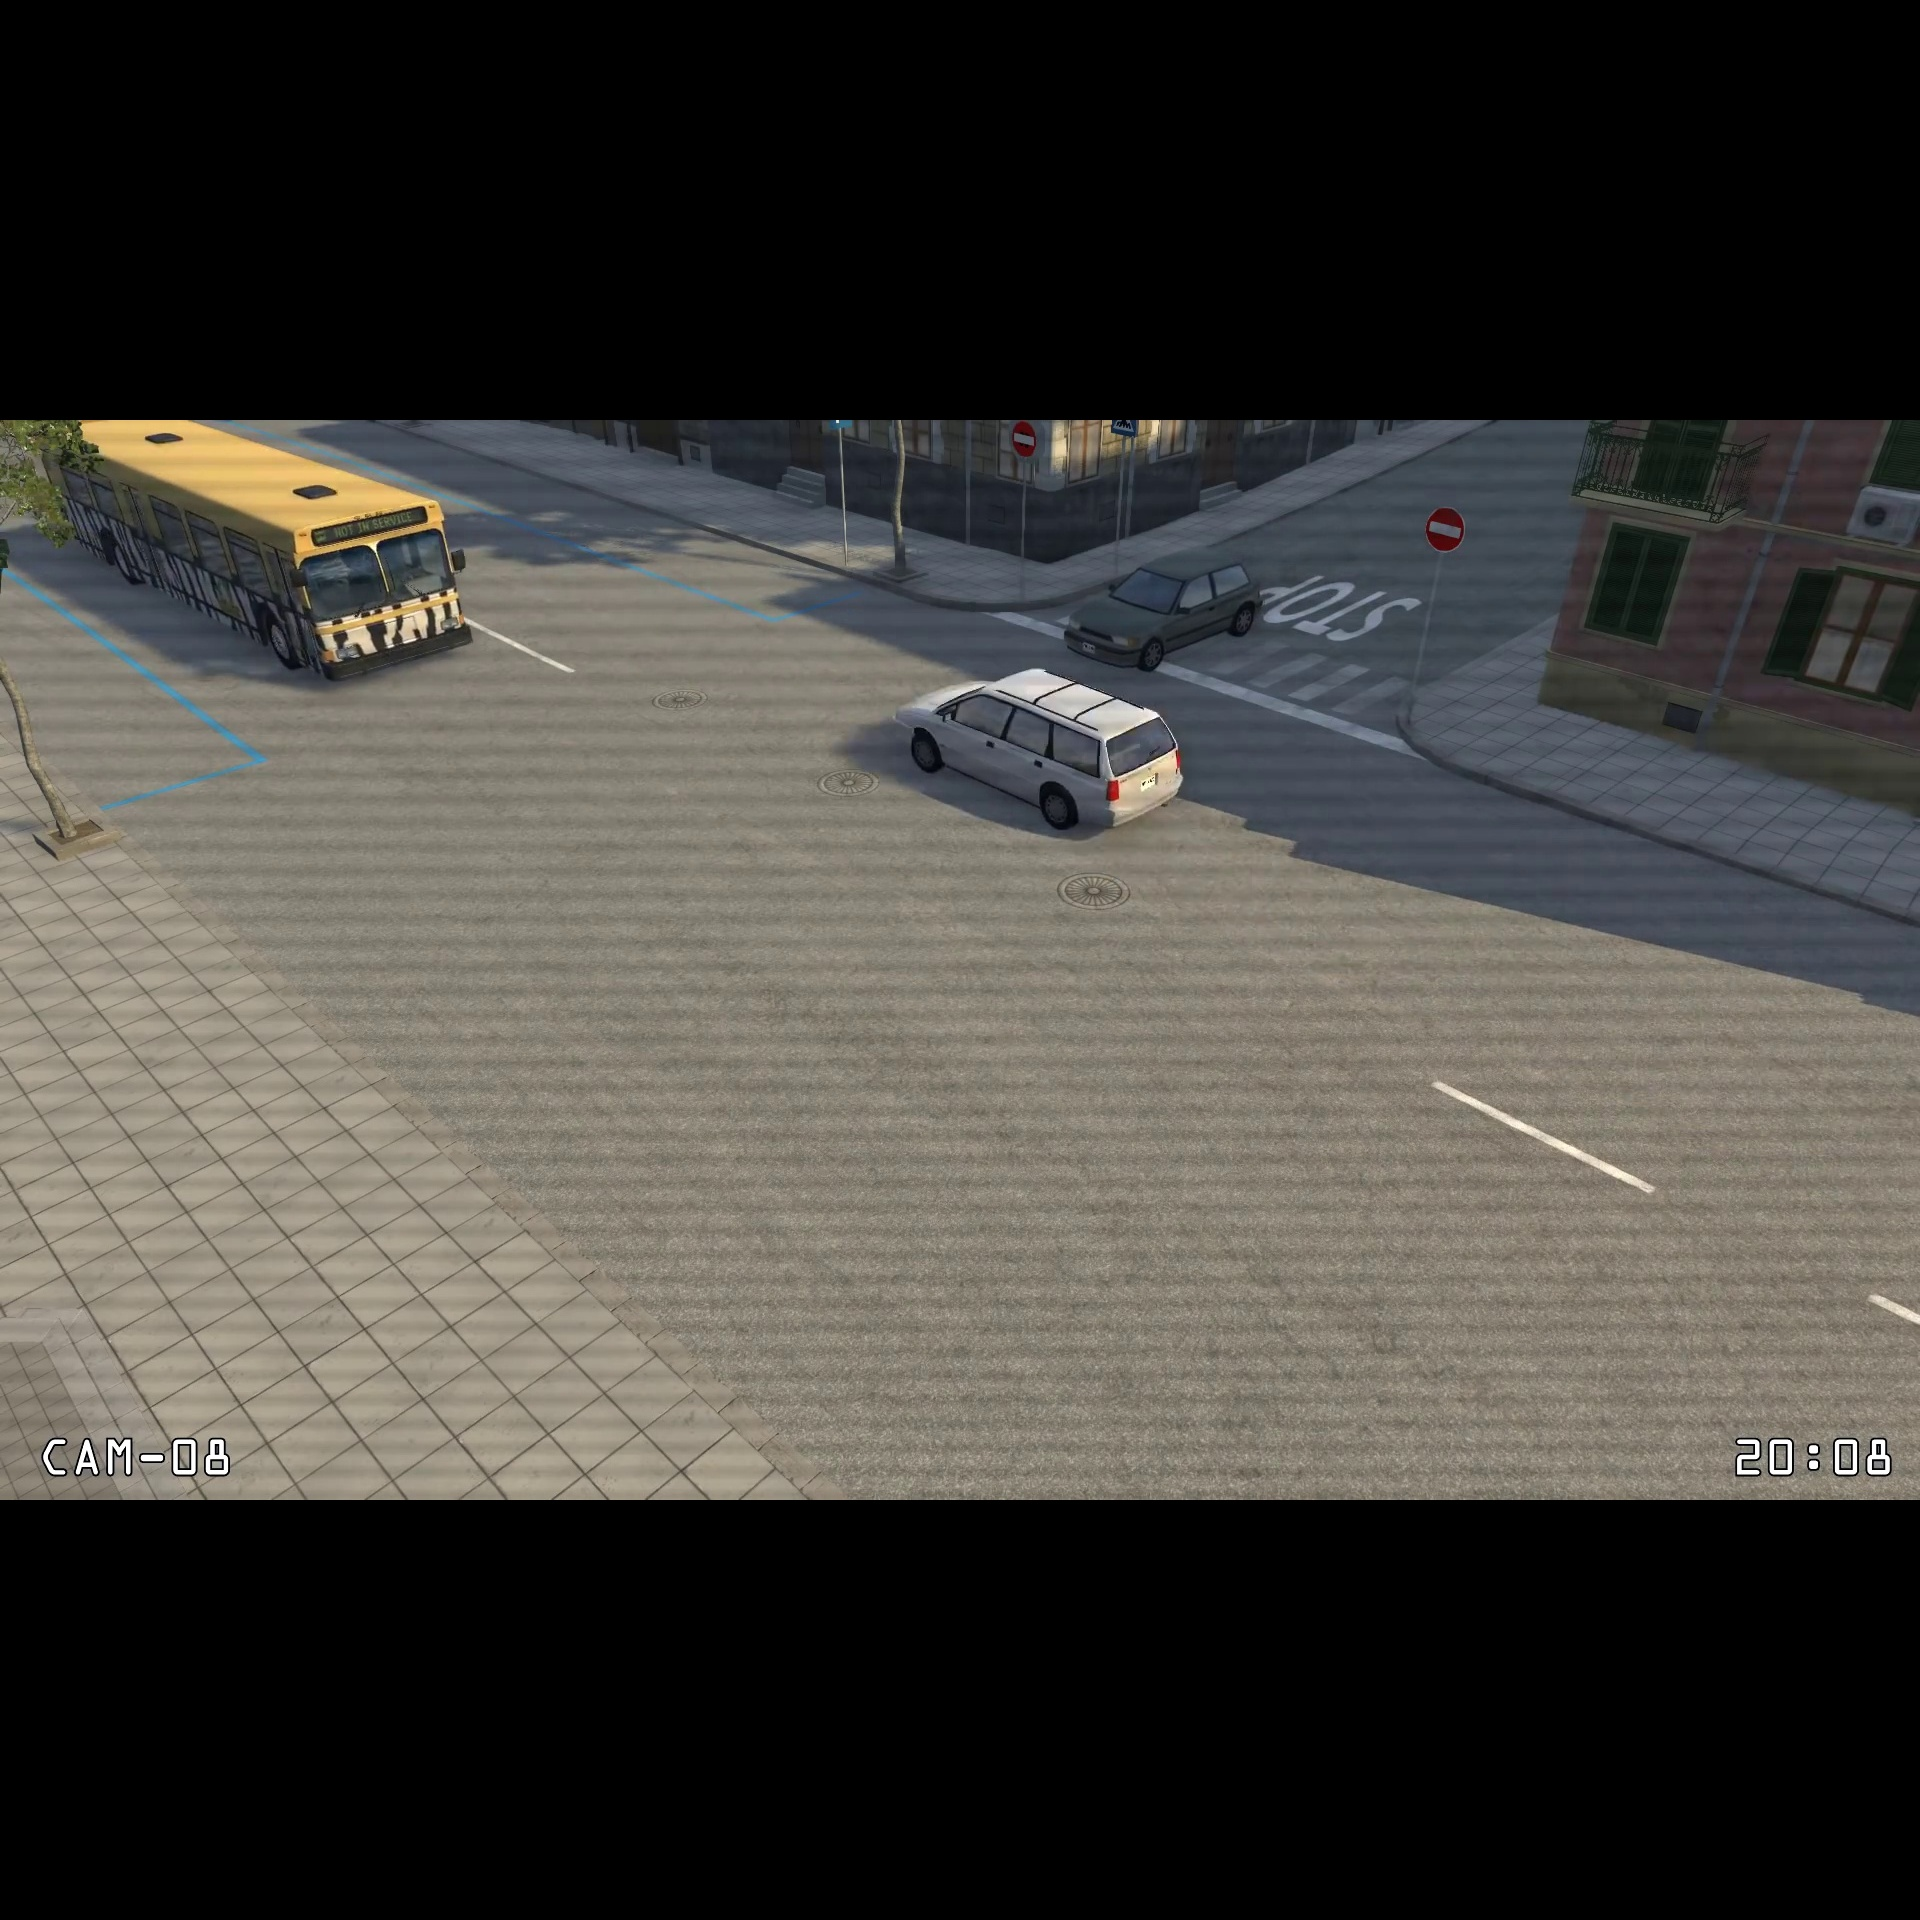vehicle: (40, 424, 485, 693), (888, 661, 1192, 835), (1055, 542, 1268, 677)
